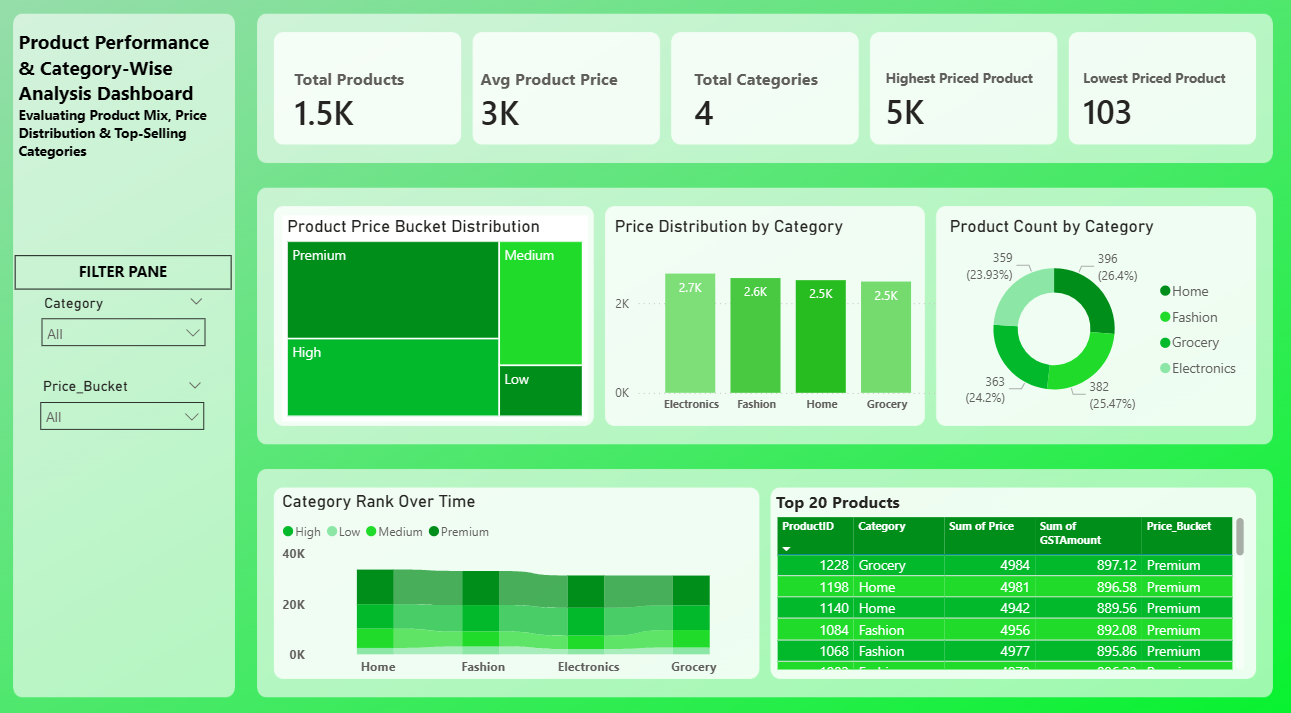

Layout of this report page (visuals, bound fields, positions):
{"tool":"powerbi","page":{"name":"Page 3","canvas":[1280,720],"ordinal":2},"visuals":[{"type":"cardVisual","fields":{"Data":["CountNonNull(Dim_Products.ProductID)"]},"box":[268.8,51.2,210,115],"z":0},{"type":"cardVisual","fields":{"Data":["Count(Dim_Products.Category)"]},"box":[661.2,51.2,210,115],"z":1},{"type":"cardVisual","fields":{"Data":["Max(Dim_Products.Price)"]},"box":[848.8,51.2,210,115],"z":2},{"type":"cardVisual","fields":{"Data":["Min(Dim_Products.Price)"]},"box":[1042.5,51.2,210,115],"z":3},{"type":"cardVisual","fields":{"Data":["Avg(Dim_Products.Price)"]},"box":[451.2,51.2,210,115],"z":4},{"type":"clusteredColumnChart","title":"Price Distribution by Category","fields":{"Category":["Dim_Products.Category"],"Y":["Avg(Dim_Products.Price)"]},"box":[607.5,222.5,328.8,202.5],"z":5},{"type":"treemap","title":"Product Price Bucket Distribution","fields":{"Group":["Dim_Products.Price_Bucket"],"Values":["CountNonNull(Dim_Products.ProductID)"]},"box":[286.2,222.5,300,202.5],"z":6},{"type":"donutChart","title":"Product Count by Category","fields":{"Category":["Dim_Products.Category"],"Y":["CountNonNull(Dim_Products.ProductID)"]},"box":[936.2,222.5,300,202.5],"z":7},{"type":"ribbonChart","title":"Category Rank Over Time","fields":{"Category":["Dim_Products.Category"],"Series":["Dim_Products.Price_Bucket"],"Y":["Sum(Fact_OrderDetails.Qty)"]},"box":[281.2,492.5,476.2,191.2],"z":8},{"type":"tableEx","title":"Top 20 Products","fields":{"Values":["Dim_Products.ProductID","Dim_Products.Category","Sum(Dim_Products.Price)","Sum(Dim_Products.GSTAmount)","Dim_Products.Price_Bucket"]},"box":[766.2,492.5,470,181.2],"z":9},{"type":"slicer","fields":{"Values":["Dim_Products.Category"]},"box":[38.8,295,181.2,81.2],"z":10},{"type":"slicer","fields":{"Values":["Dim_Products.Price_Bucket"]},"box":[37.5,376.2,181.2,81.2],"z":12},{"type":"textbox","box":[23.8,261.2,212.5,33.8],"z":13},{"type":"textbox","box":[22.5,33.8,212.5,90],"z":14},{"type":"textbox","box":[22.5,108.8,212.5,90],"z":15}]}

Visuals, with their boxes in screenshot pixels (x1, y1, x2, y2), scaled from the page's 1280x720 canvas onto the 1291x713 screenshot:
cardVisual - CountNonNull(Dim_Products.ProductID): (x1=271, y1=51, x2=483, y2=165)
cardVisual - Count(Dim_Products.Category): (x1=667, y1=51, x2=879, y2=165)
cardVisual - Max(Dim_Products.Price): (x1=856, y1=51, x2=1068, y2=165)
cardVisual - Min(Dim_Products.Price): (x1=1051, y1=51, x2=1263, y2=165)
cardVisual - Avg(Dim_Products.Price): (x1=455, y1=51, x2=667, y2=165)
"Price Distribution by Category" clusteredColumnChart: (x1=613, y1=220, x2=944, y2=421)
"Product Price Bucket Distribution" treemap: (x1=289, y1=220, x2=591, y2=421)
"Product Count by Category" donutChart: (x1=944, y1=220, x2=1247, y2=421)
"Category Rank Over Time" ribbonChart: (x1=284, y1=488, x2=764, y2=677)
"Top 20 Products" tableEx: (x1=773, y1=488, x2=1247, y2=667)
slicer - Dim_Products.Category: (x1=39, y1=292, x2=222, y2=373)
slicer - Dim_Products.Price_Bucket: (x1=38, y1=373, x2=221, y2=453)
textbox: (x1=24, y1=259, x2=238, y2=292)
textbox: (x1=23, y1=33, x2=237, y2=123)
textbox: (x1=23, y1=108, x2=237, y2=197)
